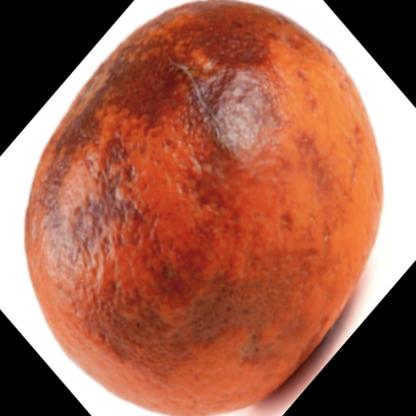rotten: (27, 1, 383, 416)
